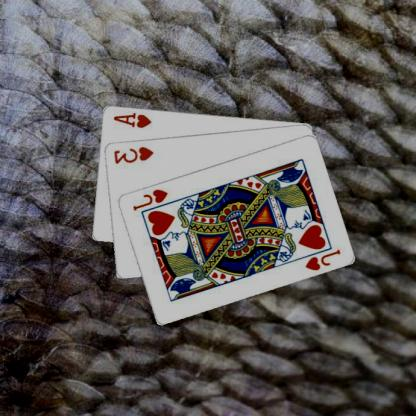3H: (113, 144, 156, 165)
AH: (112, 110, 154, 129)
JH: (304, 246, 343, 272), (132, 186, 170, 212)
